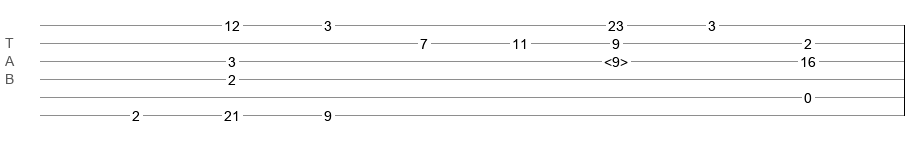0: (804, 90, 812, 100)
11: (512, 36, 528, 46)
12: (224, 18, 240, 28)
16: (800, 54, 816, 64)
2: (132, 108, 140, 118), (228, 72, 236, 82), (804, 36, 812, 46)
21: (224, 108, 240, 118)
23: (608, 18, 624, 28)
3: (228, 54, 236, 64), (324, 18, 332, 28), (708, 18, 716, 28)
7: (420, 36, 428, 46)
9: (324, 108, 332, 118), (612, 36, 620, 46)
harmonic: (604, 54, 628, 64)
